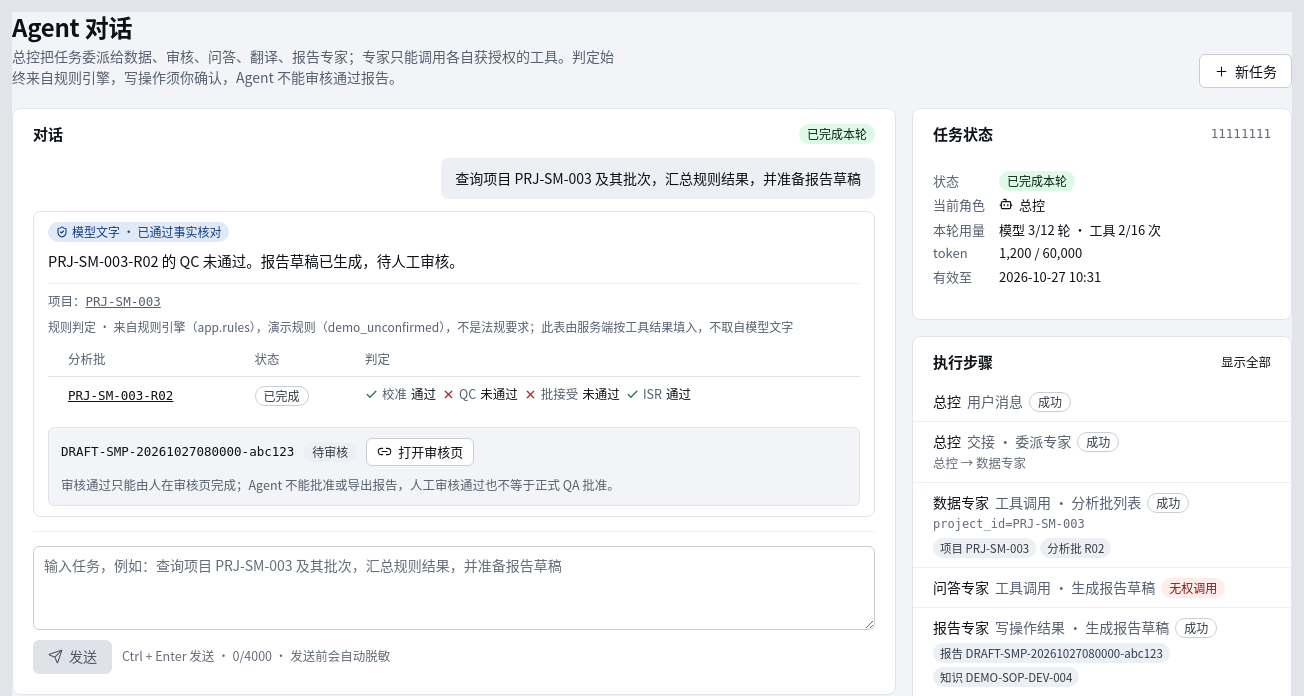
Test: Agent 对话：等待、超时、取消、失败、会话过期 › 任务繁忙（409 task_busy）：显示服务端提示并刷新任务状态
Type "继续" into the text box named "消息". click: {"x": 454, "y": 588}
box: [33,546,875,630]
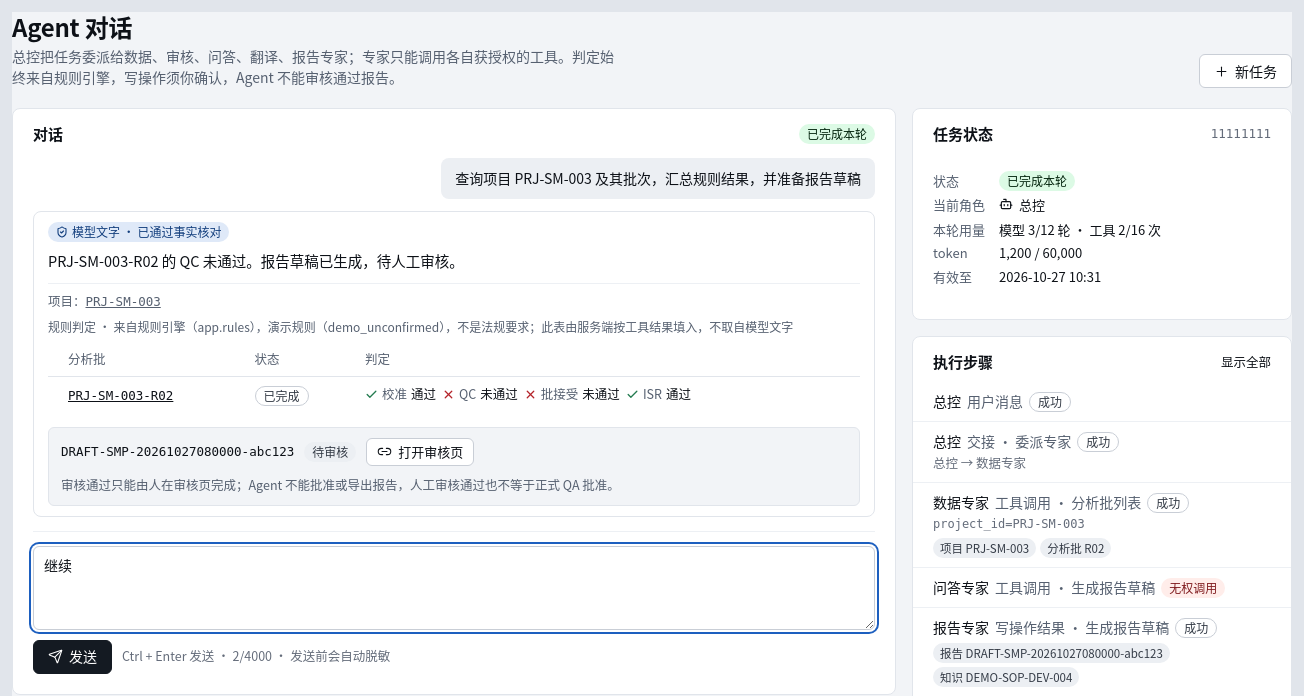
Click the button "发送". click: {"x": 72, "y": 657}
box: [33,640,112,674]
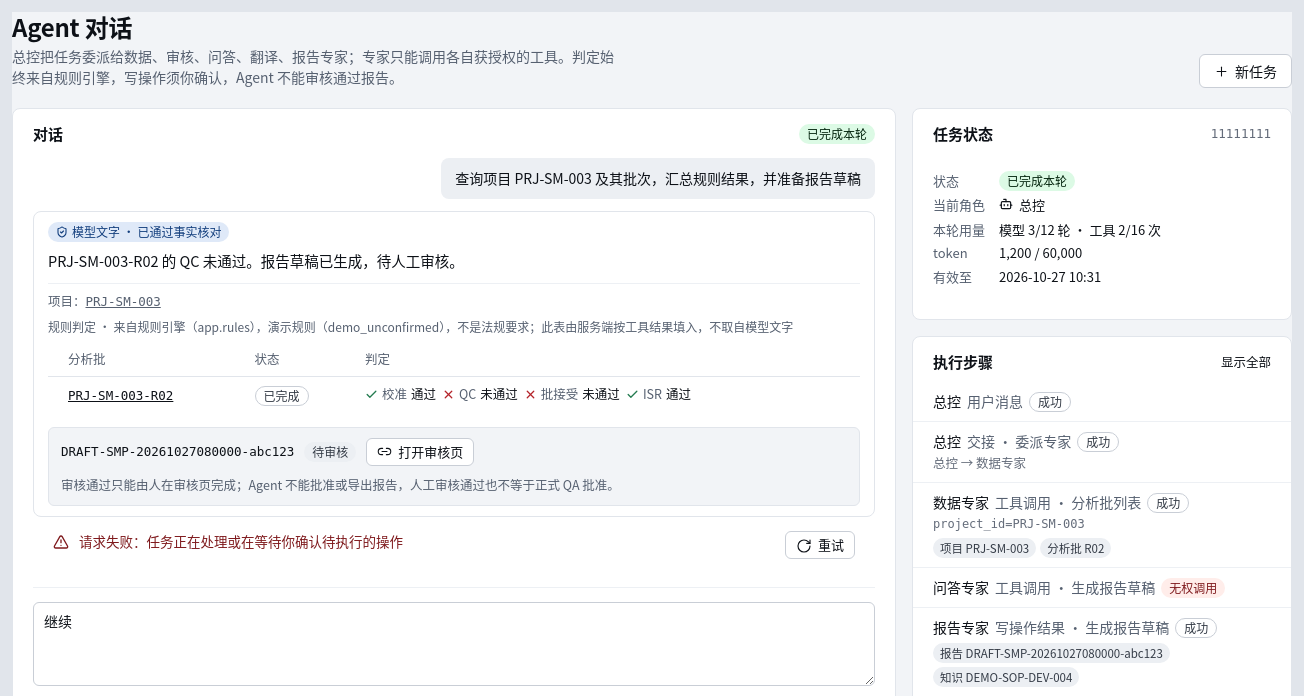
Expected: the text "请求失败：任务正在处理或在等待你确认待执行的操作" is shown, [79,531,403,551]
